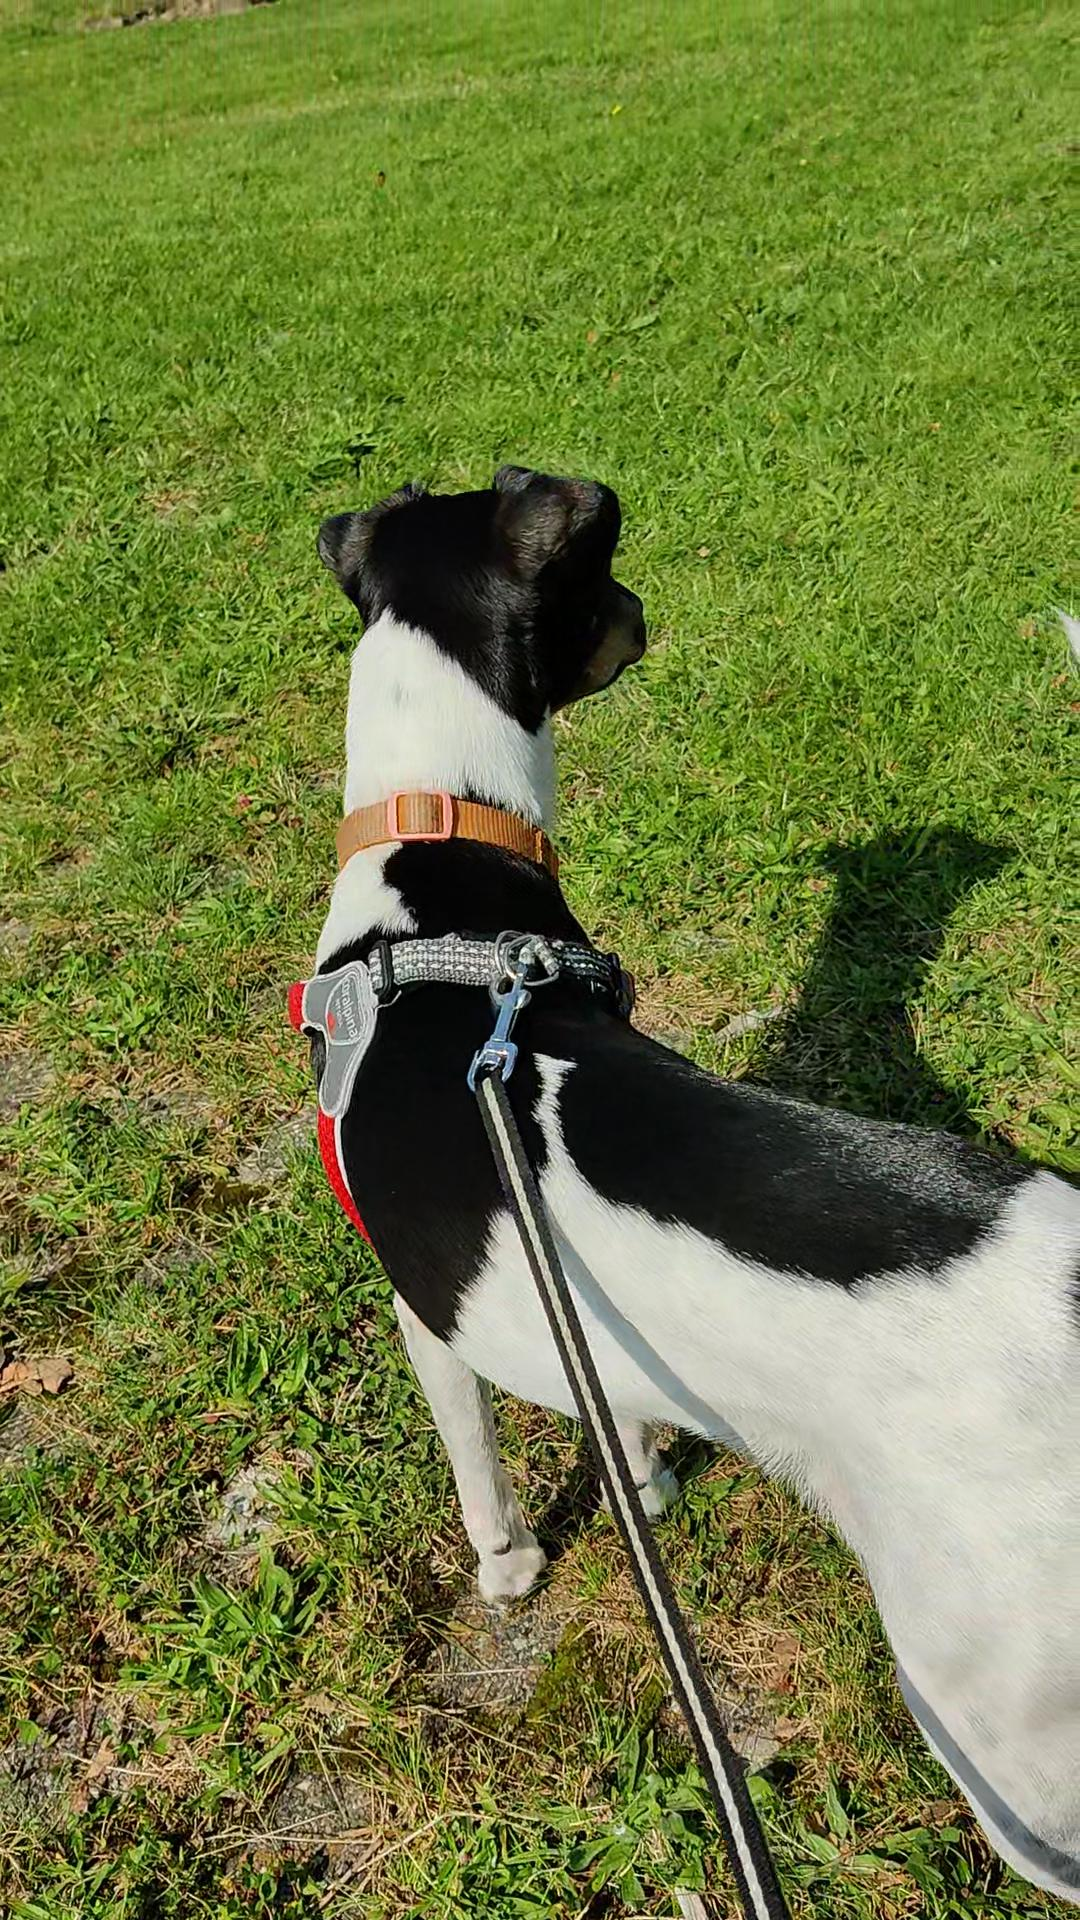Dog: (284, 451, 1079, 1916)
